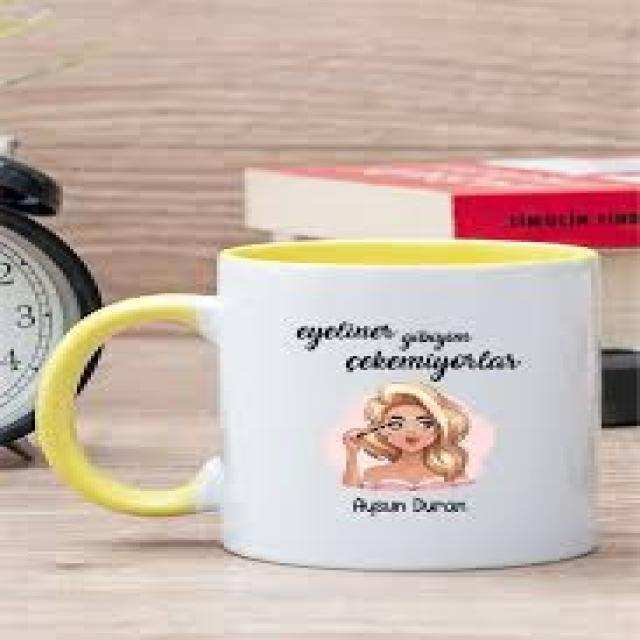taza: (36, 238, 602, 573)
